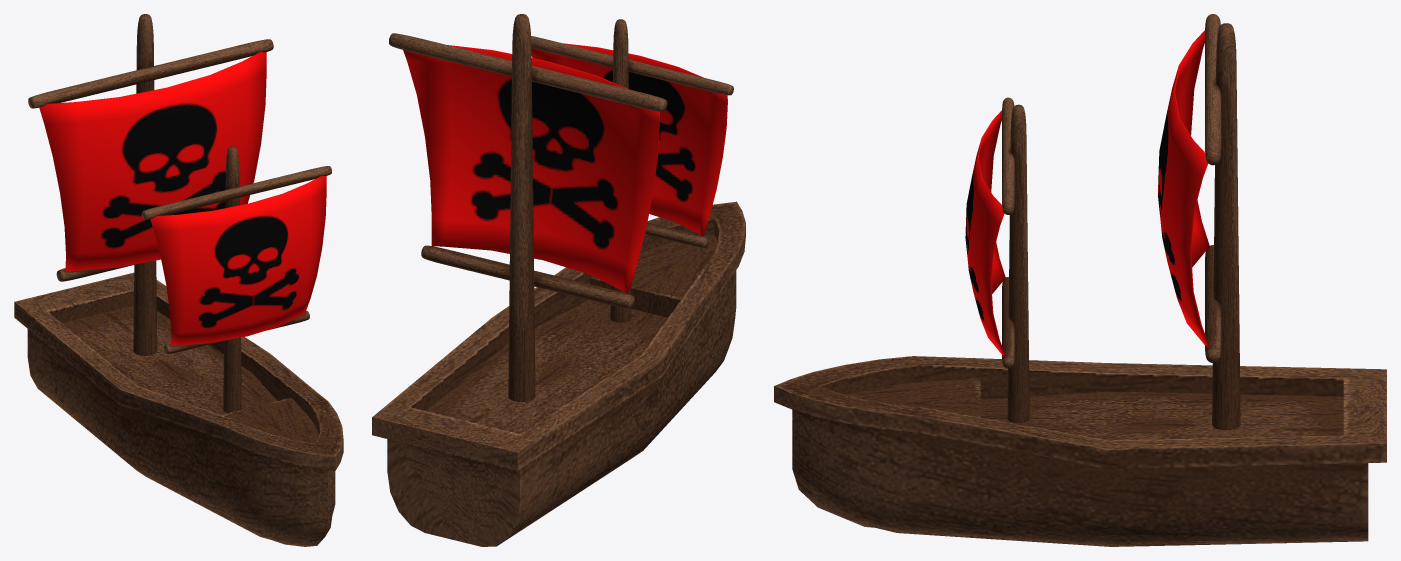
The model's file is Enemy_SpeedsterShip_01.fbx.
3 views of the same model, side by side, from view 1: azimuth 30°, elevation 25°; view 2: azimuth 150°, elevation 25°; view 3: azimuth 270°, elevation 25° (orthographic). The views are drawn at different scales.
Parts seen in each view (by area): view 1: Enemy_SpeedsterShip_01; view 2: Enemy_SpeedsterShip_01; view 3: Enemy_SpeedsterShip_01.
Boxes of the visible parts, <box> form: Enemy_SpeedsterShip_01: <box>14,14,343,546</box>; Enemy_SpeedsterShip_01: <box>372,14,745,546</box>; Enemy_SpeedsterShip_01: <box>774,14,1386,546</box>.
Bounding box in the file's own units: 624 × 1038 × 1158.
